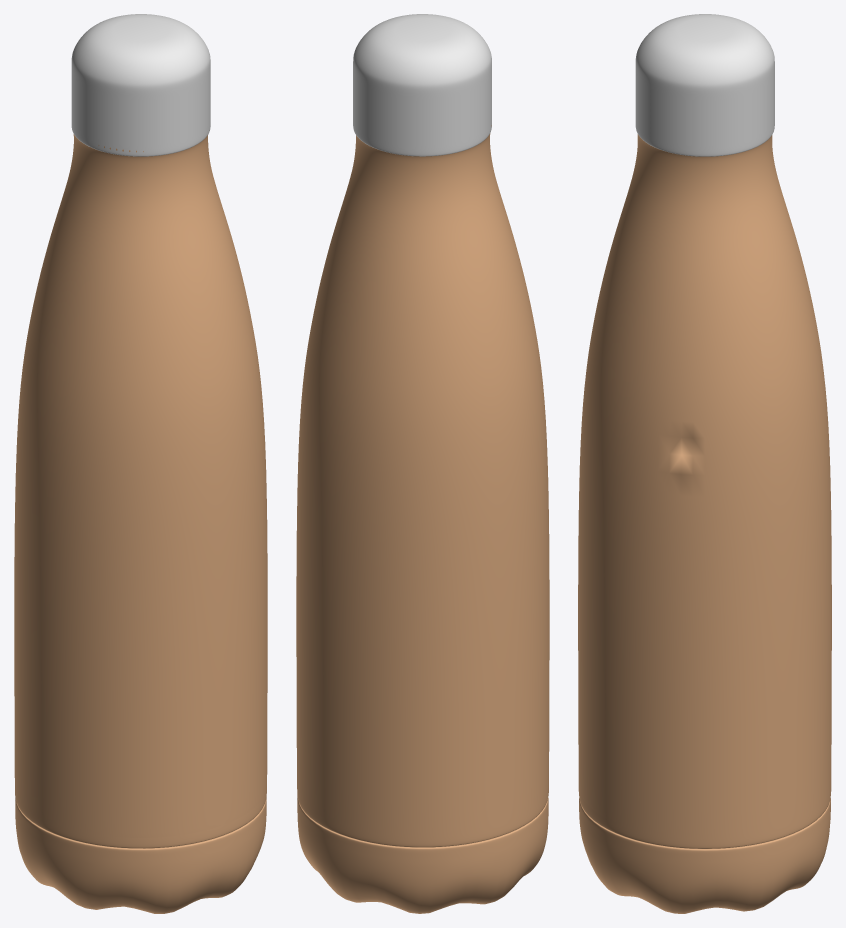
Rendered from bottle.gltf.
3 renders of one model, left to right at view 1: azimuth 30°, elevation 25°; view 2: azimuth 150°, elevation 25°; view 3: azimuth 270°, elevation 25°, orthographic.
Visible parts, largest first — view 1: bottle, cap; view 2: bottle, cap; view 3: bottle, cap.
Boxes of the visible parts, x1,y1,x2,y2 form: bottle: (14, 134, 267, 913); cap: (71, 14, 210, 156); bottle: (296, 125, 549, 913); cap: (353, 14, 491, 156); bottle: (578, 134, 831, 913); cap: (635, 14, 774, 156).
Size of the model in its own units: 0.5395 by 1.99 by 0.5395.
